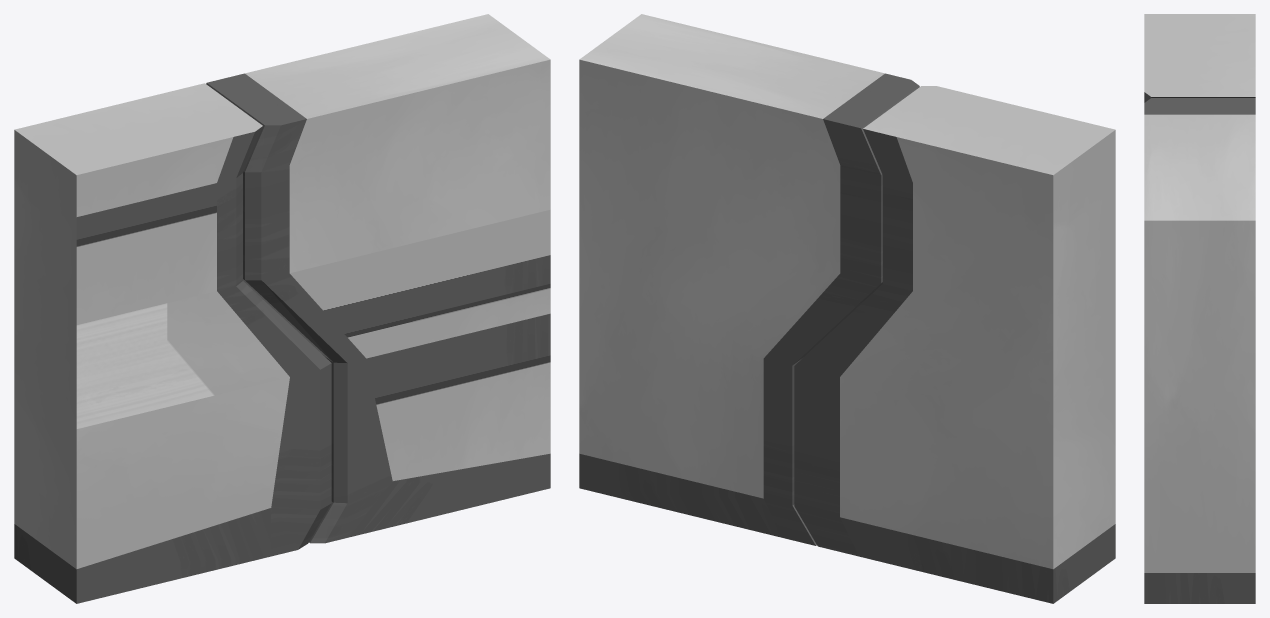
Rendered from DoorLeftRight.fbx.
3 renders of one model, left to right at view 1: azimuth 30°, elevation 25°; view 2: azimuth 150°, elevation 25°; view 3: azimuth 270°, elevation 25°, orthographic. The views are drawn at different scales.
Parts seen in each view (by area): view 1: DoorLeft, DoorRight; view 2: DoorLeft, DoorRight; view 3: DoorRight, DoorLeft.
Part boxes in pixels (x1,y1,x2,y2): DoorLeft: [14, 83, 331, 603]; DoorRight: [206, 14, 550, 543]; DoorLeft: [794, 86, 1115, 603]; DoorRight: [579, 14, 919, 545]; DoorRight: [1144, 98, 1255, 603]; DoorLeft: [1144, 14, 1255, 102].
Size of the model in its own units: 279 by 241 by 63.48.
